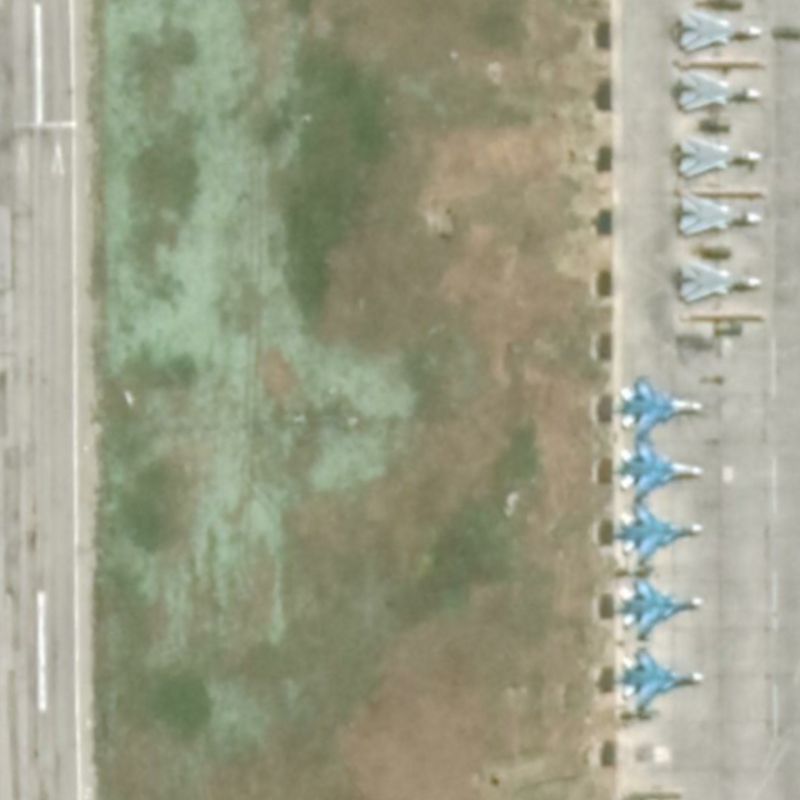A19: (609, 375, 706, 440), (612, 645, 706, 712), (612, 576, 706, 642), (610, 502, 704, 565), (615, 440, 706, 500)
A20: (677, 8, 764, 55), (676, 67, 764, 113), (676, 135, 764, 180), (677, 192, 763, 238), (678, 259, 764, 304)
